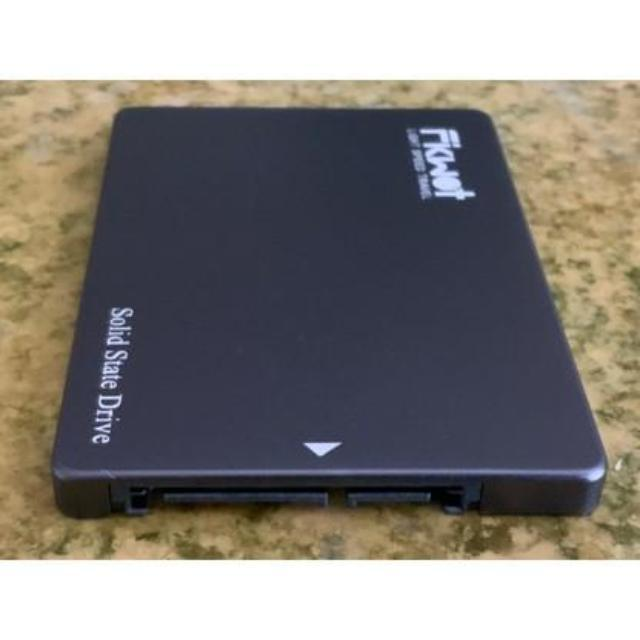DISK: (49, 96, 614, 536)
